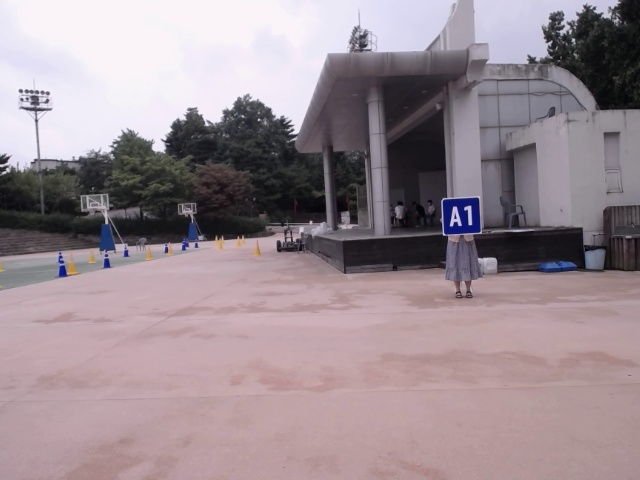delivery_a1: (442, 196, 482, 235)
